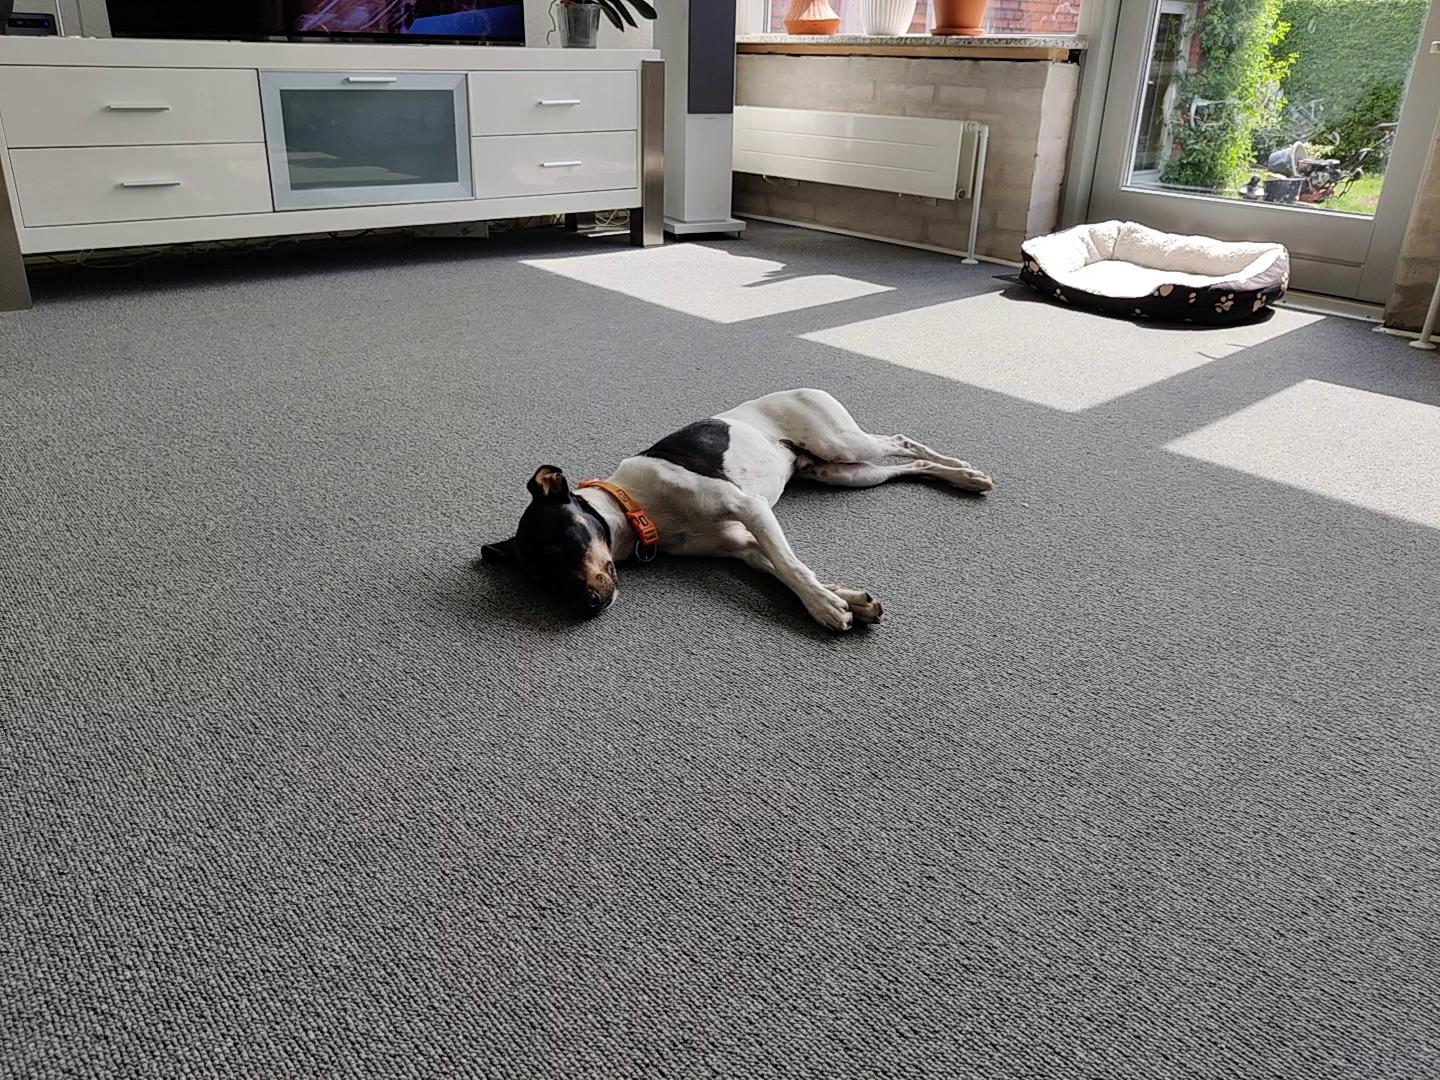Dog: (472, 385, 996, 639)
